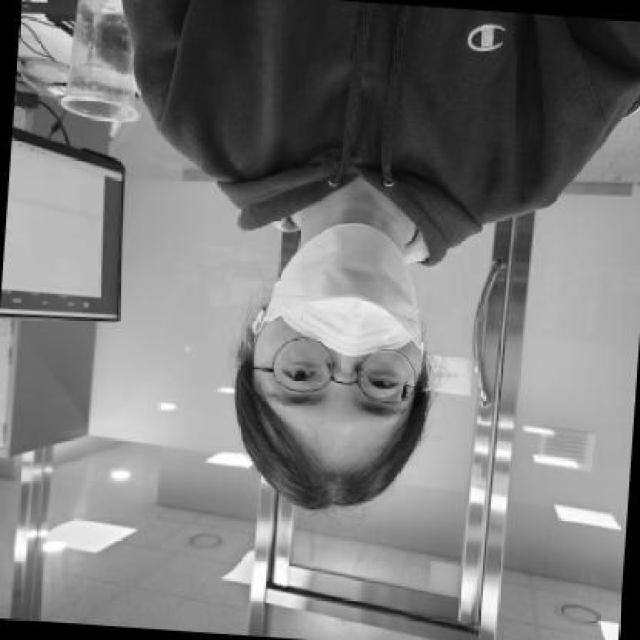earphone: (252, 303, 283, 347)
laptop_computer: (0, 120, 172, 378)
